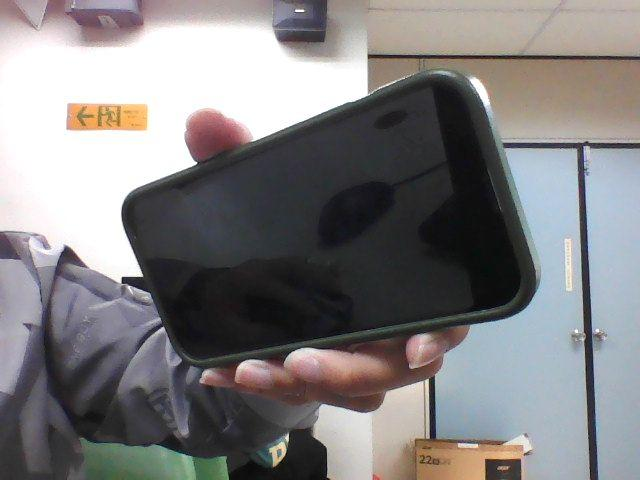Phone: (119, 64, 556, 374)
